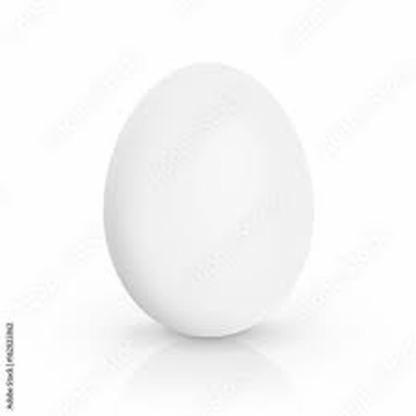egg: (97, 58, 320, 342)
